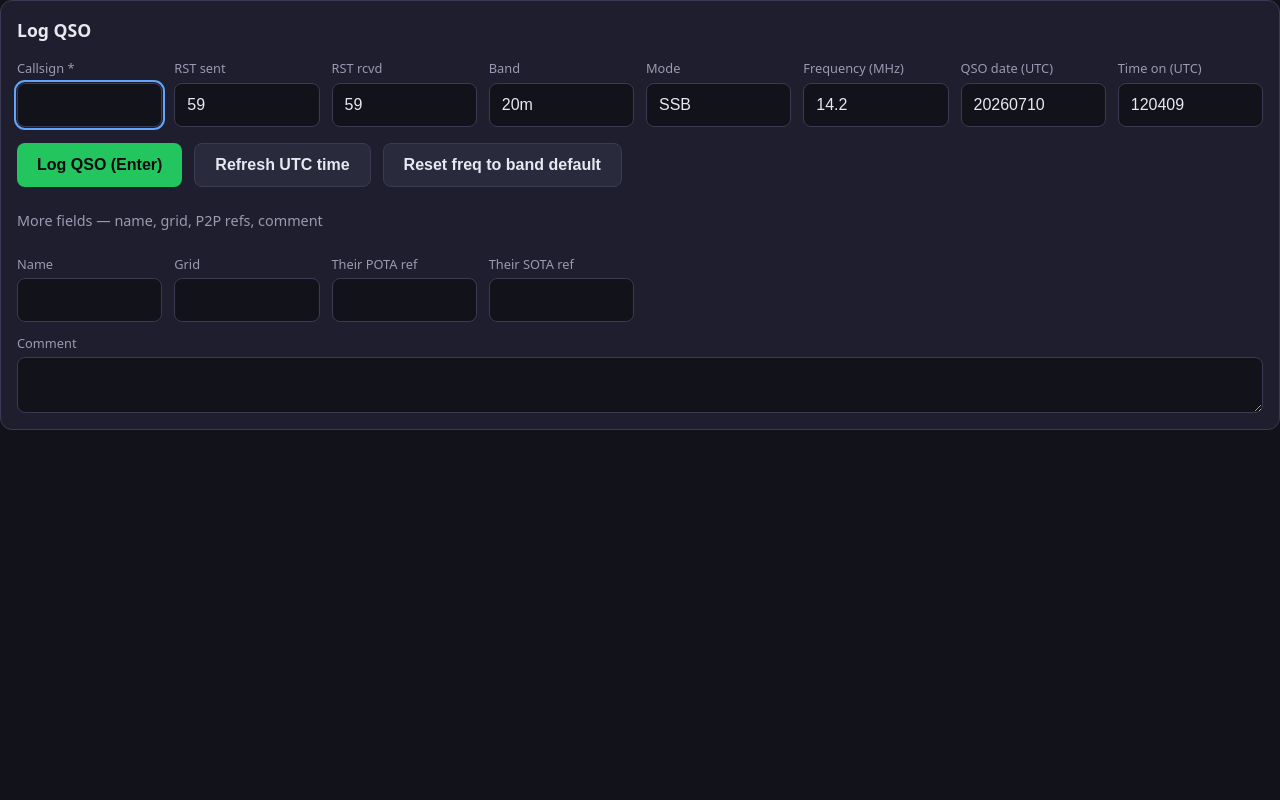
Test: EntryForm validation › blocks invalid fields, retains the draft, and focuses the first error
Type "W1AW" into the field labelled "Callsign *". click: (90, 105)
box: [17, 83, 162, 127]
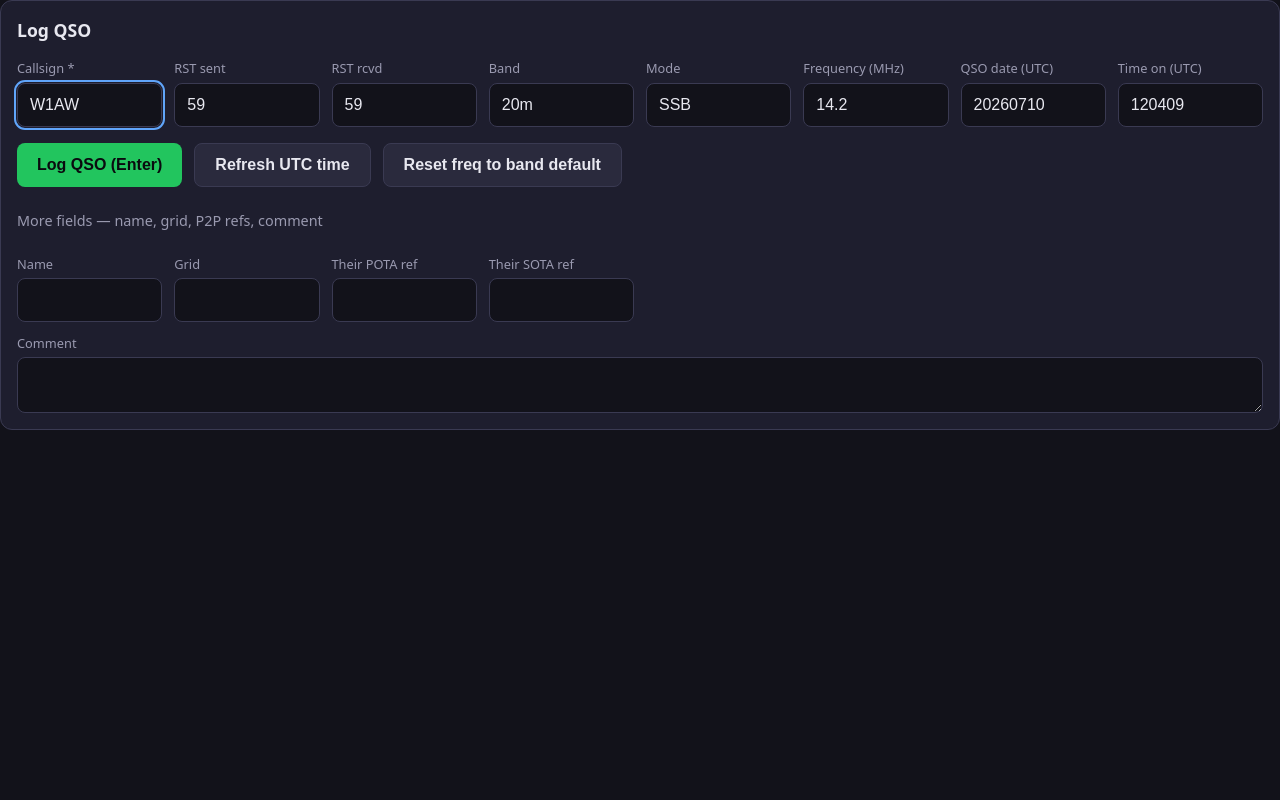
Replace the text in the field labelled "QSO date (UTC)" with "20230229". click: (1033, 105)
box: [960, 83, 1106, 127]
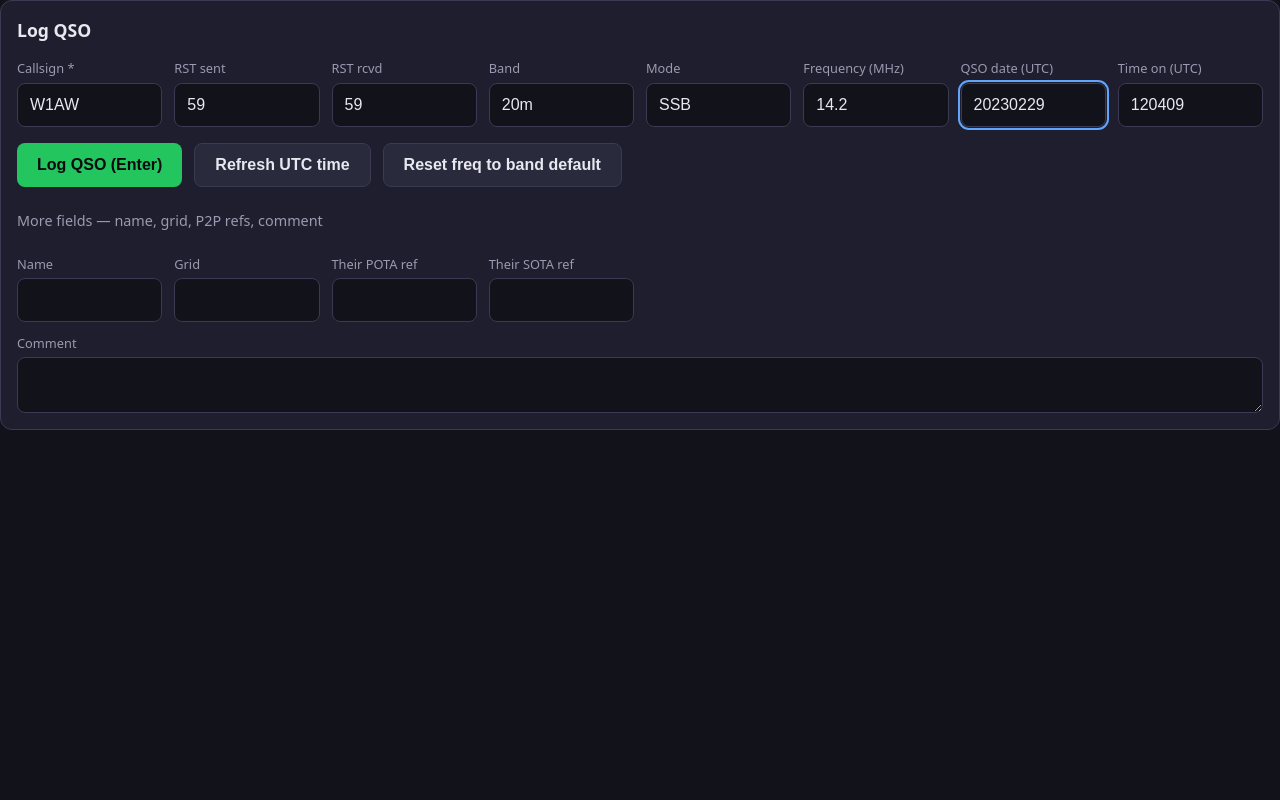
Replace the text in the field labelled "Time on (UTC)" with "240000". click: (1190, 105)
box: [1118, 83, 1263, 127]
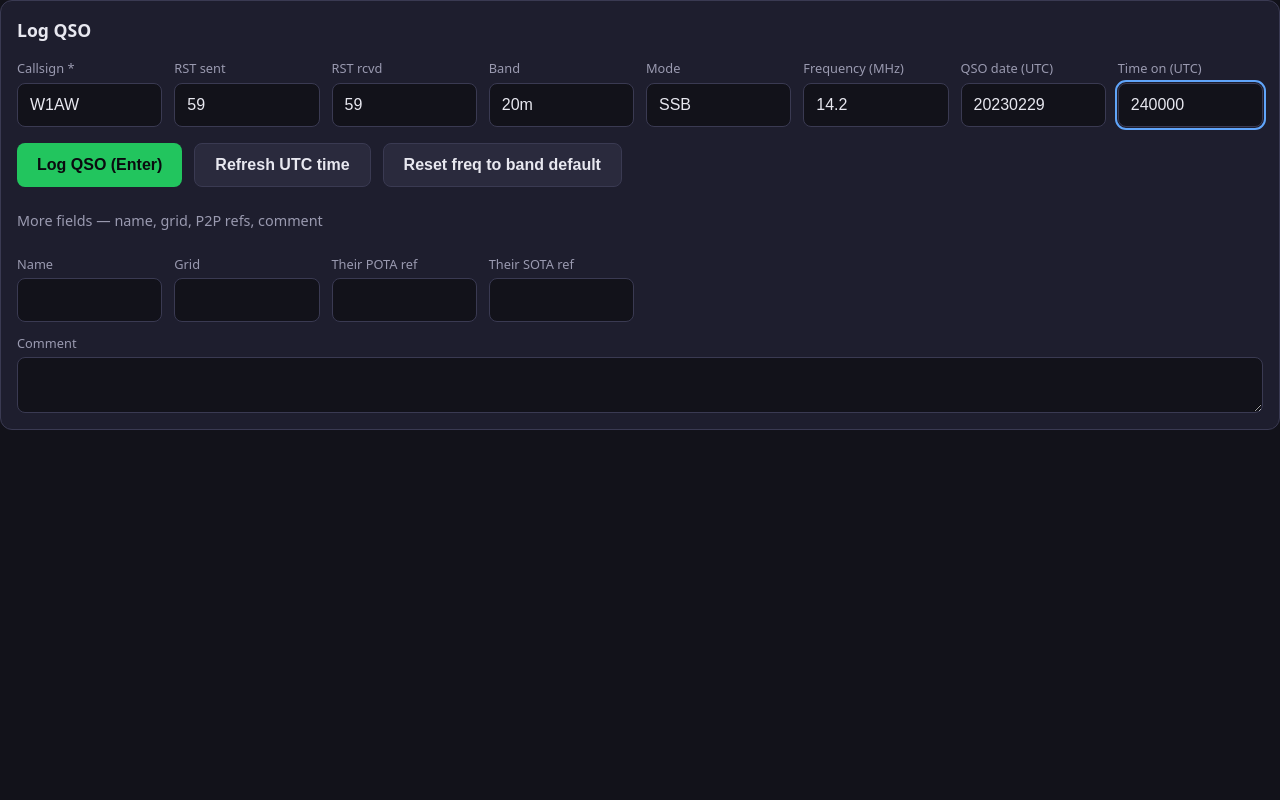
Replace the text in the number field labelled "Frequency (MHz)" with "0". click: (876, 105)
box: [803, 83, 949, 127]
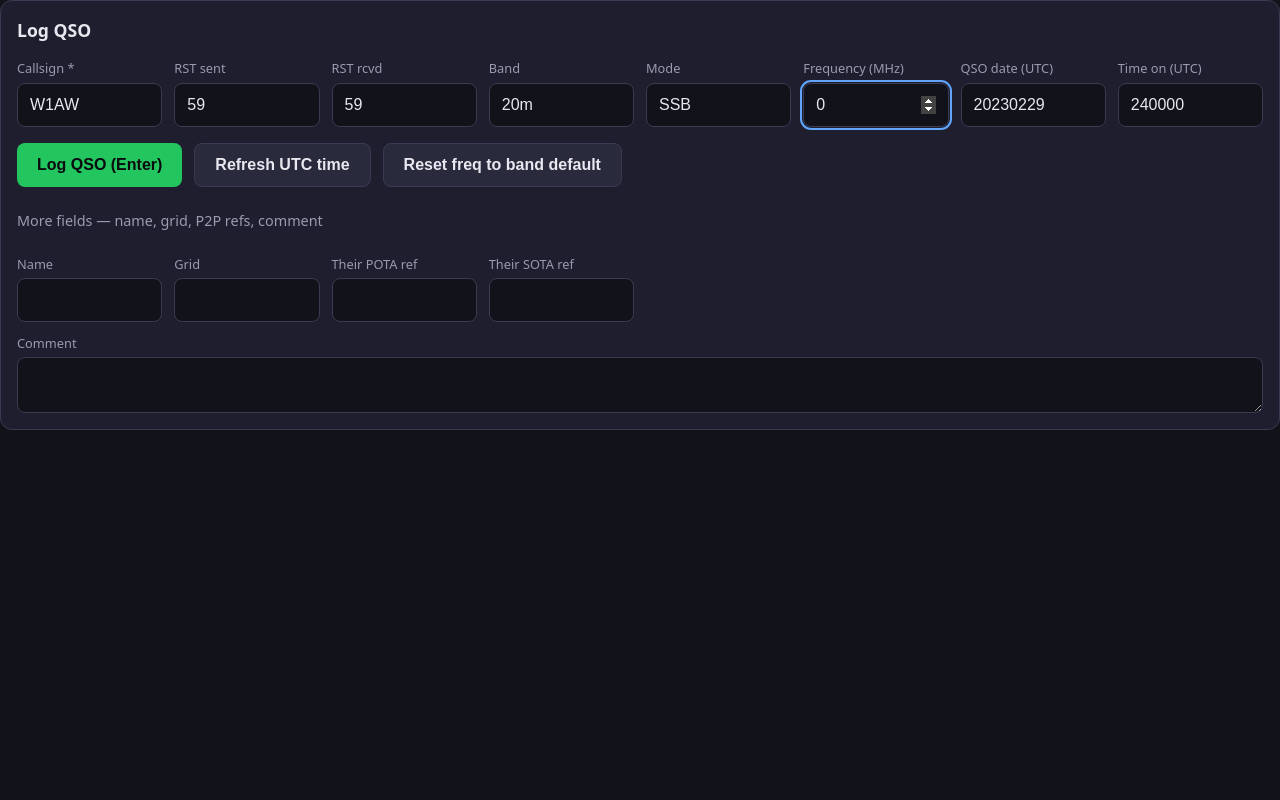
Click the button "Log QSO (Enter)". click: (100, 165)
box: [17, 143, 182, 187]
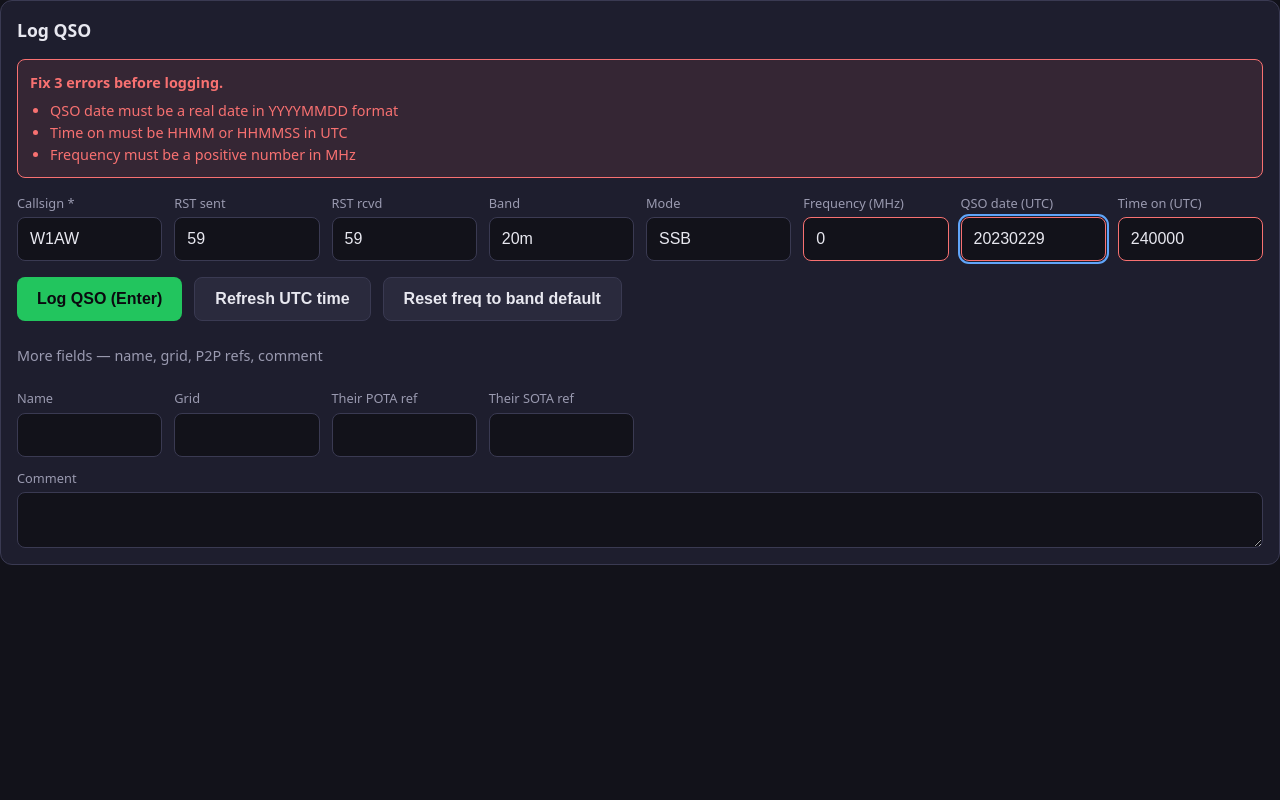
Now the message shows "Fix 3 errors before logging", box [30, 73, 223, 92]
Now the list item "QSO date must be a real date in YYYYMMDD format" is shown, box [50, 101, 398, 120]
Now the list item "Time on must be HHMM or HHMMSS in UTC" is shown, box [50, 123, 348, 142]
